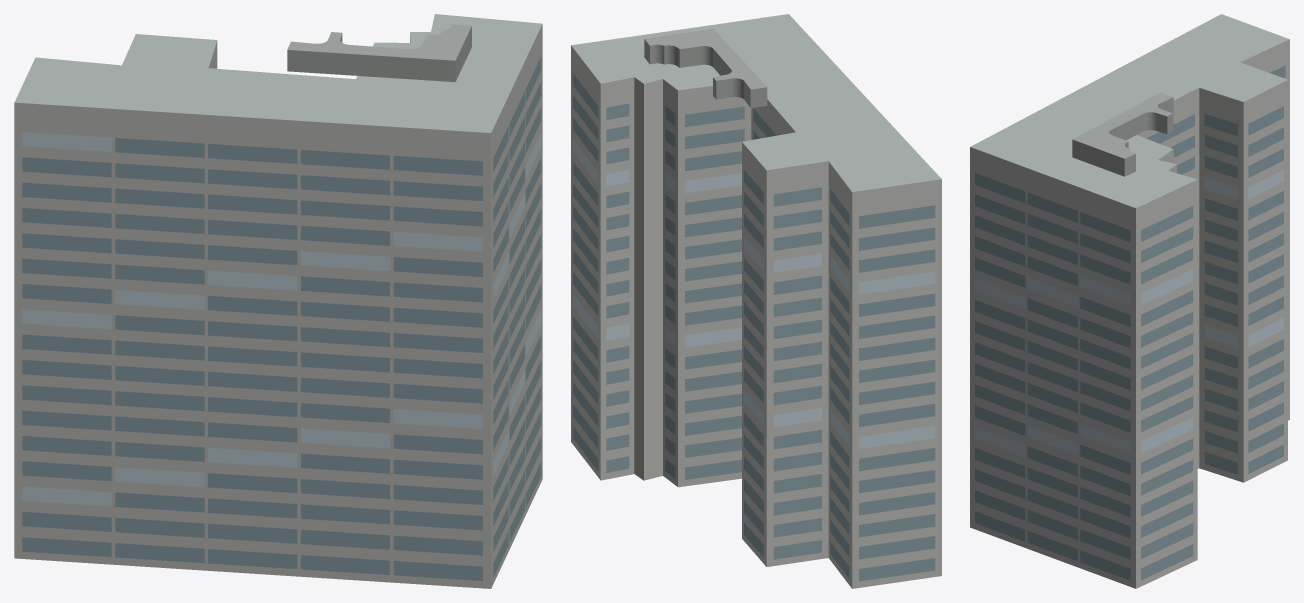
Rendered from fallback-godeok-central-ipark-511.glb.
The picture shows the model from 3 angles, left to right: view 1: azimuth 30°, elevation 25°; view 2: azimuth 150°, elevation 25°; view 3: azimuth 270°, elevation 25°; orthographic projection. The views are drawn at different scales.
Visible parts, largest first — view 1: fallback-godeok-central-ipark-511; view 2: fallback-godeok-central-ipark-511; view 3: fallback-godeok-central-ipark-511.
Boxes of the visible parts, x1=… form: fallback-godeok-central-ipark-511: x1=14, y1=14, x2=542, y2=588; fallback-godeok-central-ipark-511: x1=571, y1=14, x2=941, y2=588; fallback-godeok-central-ipark-511: x1=970, y1=14, x2=1289, y2=588.
Size of the model in its own units: 55.43 by 53 by 38.54.
